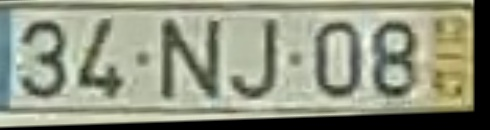0: (312, 18, 364, 100)
3: (17, 17, 71, 101)
4: (73, 14, 129, 103)
8: (369, 18, 419, 100)
J: (227, 15, 282, 104)
N: (156, 17, 224, 102)
